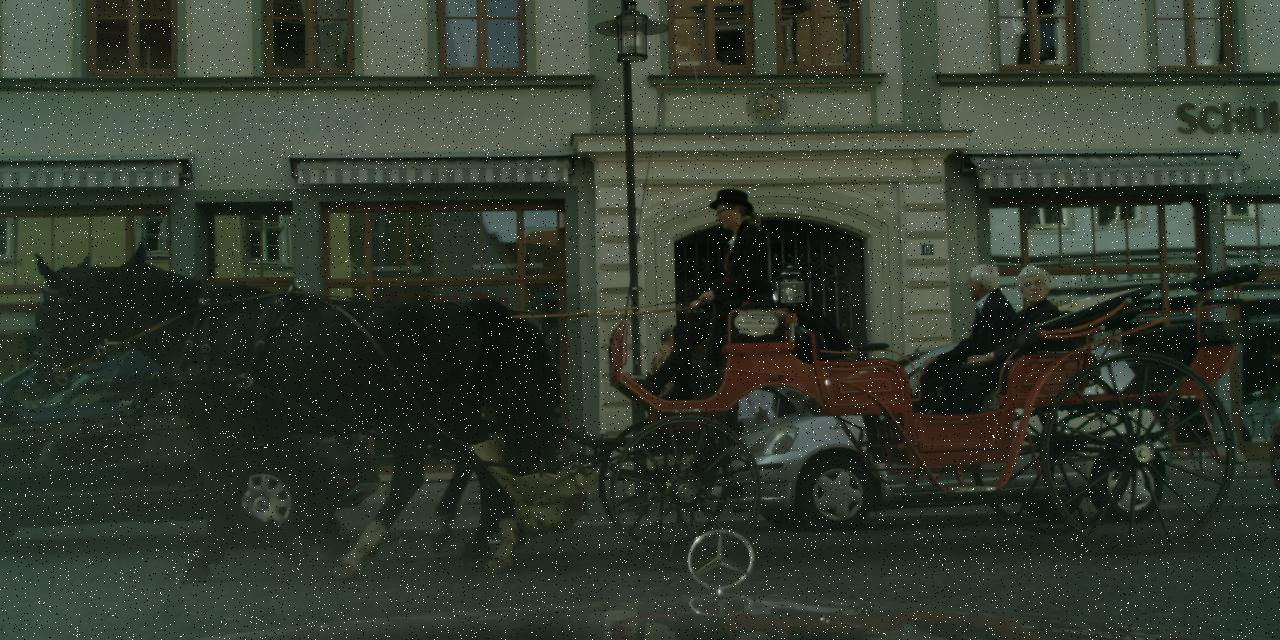ped: (632, 326, 707, 508), (724, 326, 798, 507)
